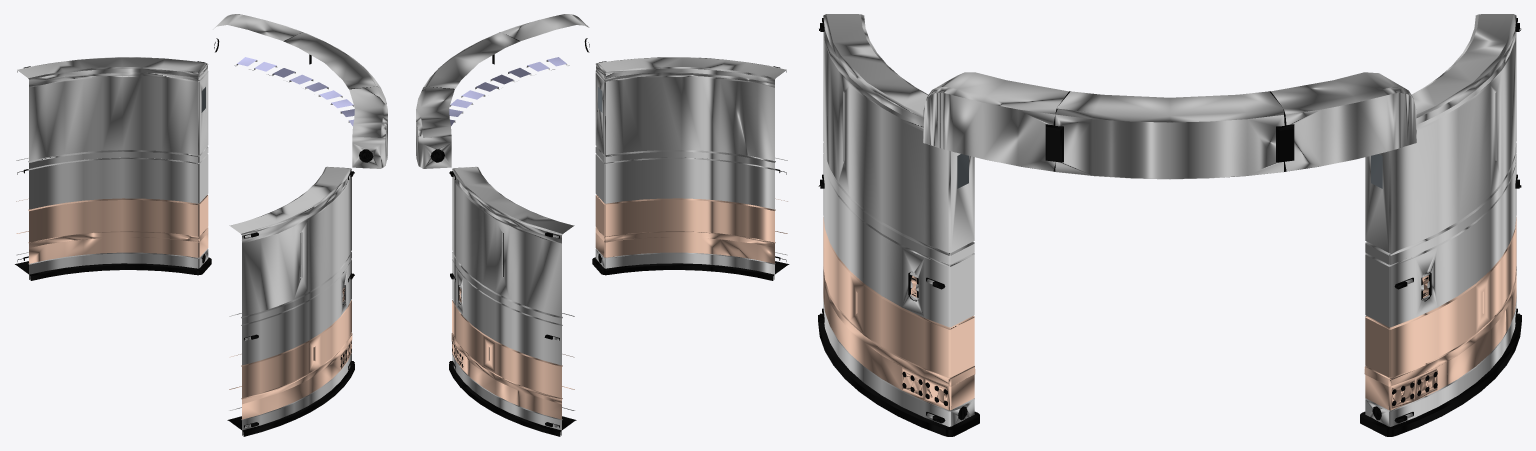
The model's file is hangar_business_v2_elevator_shaft_bottom_wall_01.glb.
3 views of the same model, side by side, from view 1: azimuth 30°, elevation 25°; view 2: azimuth 150°, elevation 25°; view 3: azimuth 270°, elevation 25° (orthographic). The views are drawn at different scales.
Size of the model in its own units: 3.4 by 3.5 by 6.01.
